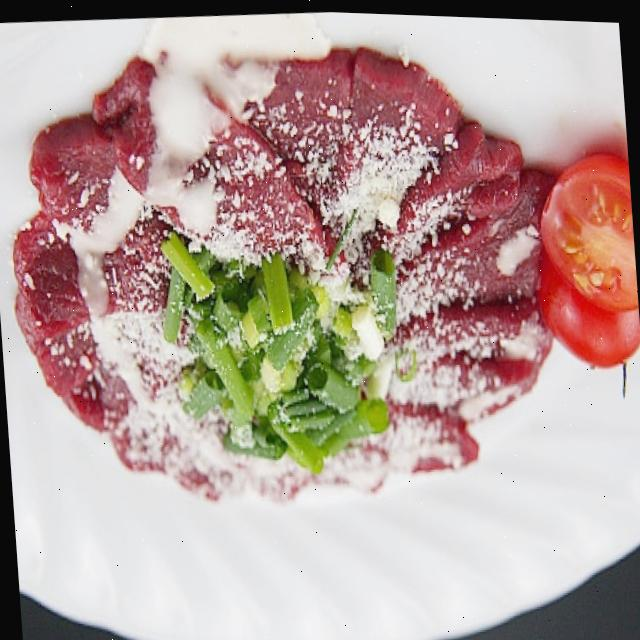刺身生食: (0, 0, 640, 574)
